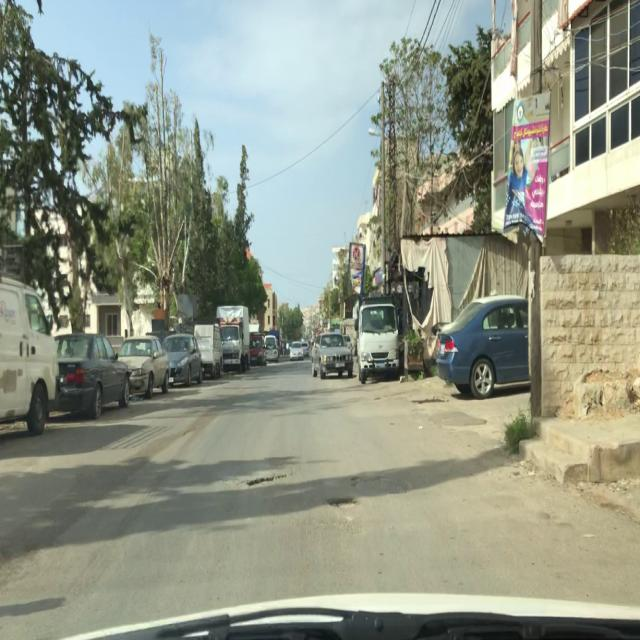Pothole: (246, 472, 289, 488), (324, 496, 360, 510)
